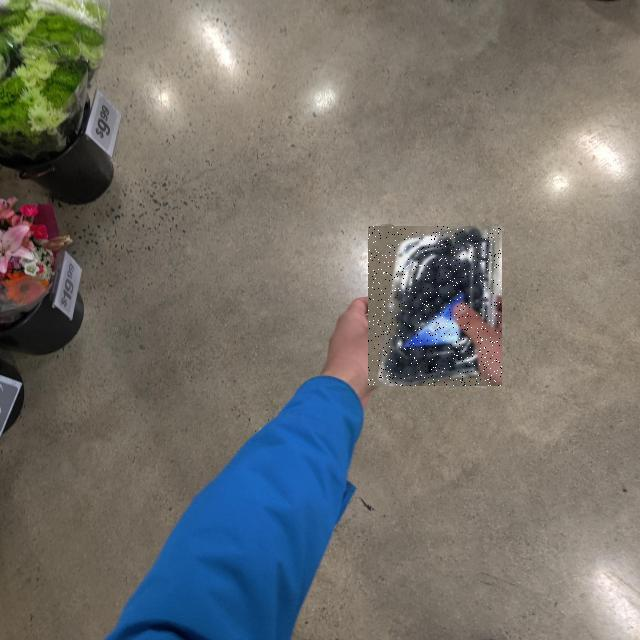Blue Berries: (368, 226, 502, 386)
